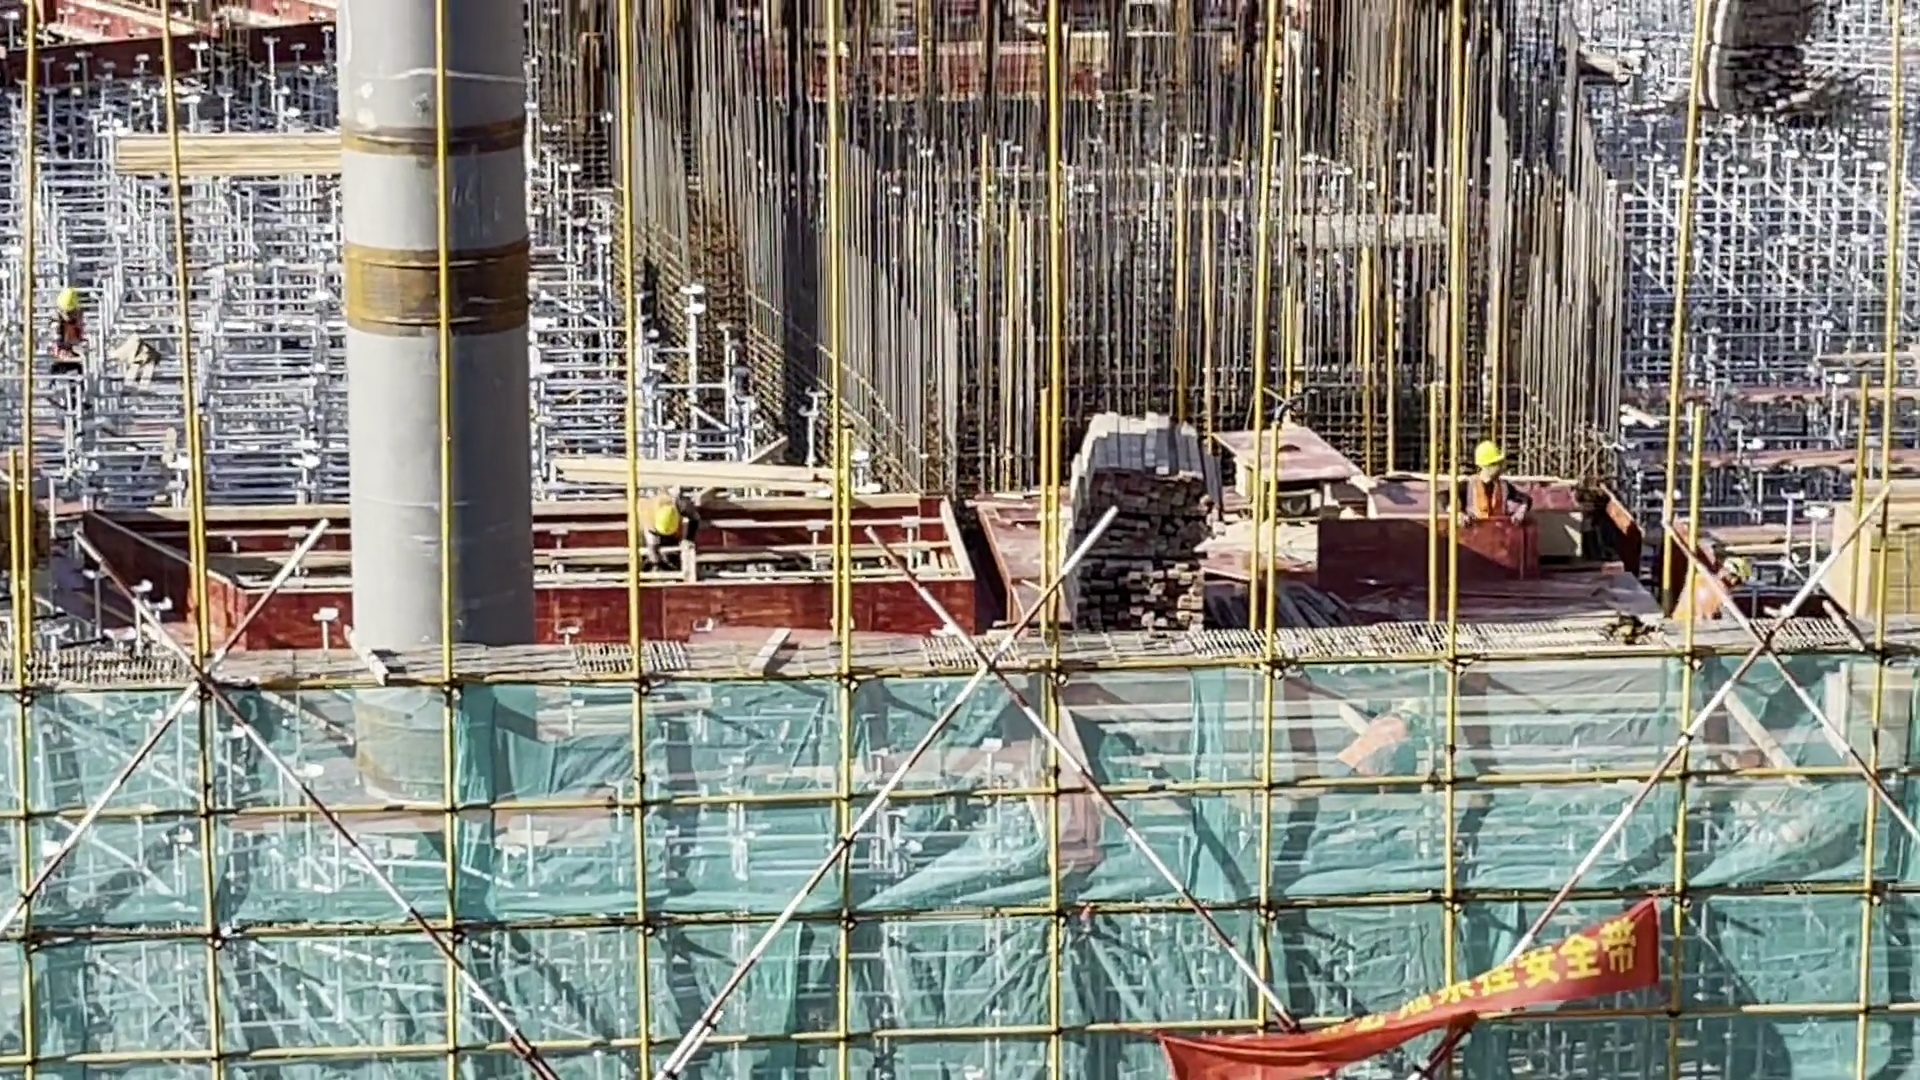helmet: (648, 502, 685, 538), (1470, 439, 1507, 472), (55, 285, 78, 316)
person: (1436, 435, 1558, 568), (622, 486, 703, 565), (47, 279, 89, 375)
